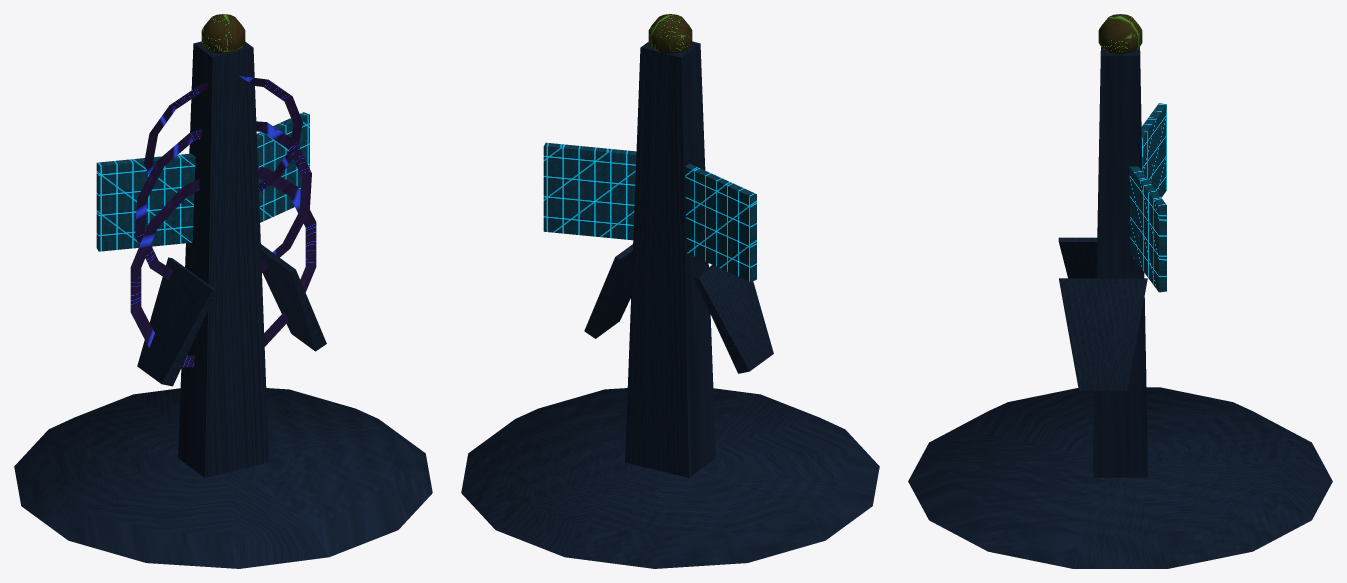
Rendered from command-horizon-wayfinding-lod1-textured.glb.
The picture shows the model from 3 angles, left to right: view 1: azimuth 30°, elevation 25°; view 2: azimuth 150°, elevation 25°; view 3: azimuth 270°, elevation 25°; orthographic projection.
Visible parts, largest first — view 1: wayfinding-base, wayfinding-spine, wayfinding-panel--1, wayfinding-wing--1, wayfinding-ring-0, wayfinding-ring-1, wayfinding-wing-1, wayfinding-panel-1, wayfinding-ring-2, wayfinding-beacon; view 2: wayfinding-base, wayfinding-spine, wayfinding-panel-1, wayfinding-panel--1, wayfinding-wing--1, wayfinding-wing-1, wayfinding-beacon; view 3: wayfinding-base, wayfinding-spine, wayfinding-wing-1, wayfinding-panel-1, wayfinding-panel--1, wayfinding-beacon, wayfinding-wing--1.
Part boxes in pixels (left/top/right/bottom): wayfinding-base: left=14, top=388, right=432, bottom=568; wayfinding-spine: left=178, top=41, right=268, bottom=477; wayfinding-panel--1: left=96, top=153, right=195, bottom=251; wayfinding-wing--1: left=137, top=257, right=216, bottom=386; wayfinding-ring-0: left=130, top=167, right=316, bottom=367; wayfinding-ring-1: left=135, top=121, right=311, bottom=279; wayfinding-wing-1: left=261, top=244, right=326, bottom=351; wayfinding-panel-1: left=256, top=112, right=309, bottom=222; wayfinding-ring-2: left=144, top=76, right=302, bottom=192; wayfinding-beacon: left=201, top=14, right=245, bottom=53; wayfinding-base: left=461, top=388, right=879, bottom=568; wayfinding-spine: left=625, top=41, right=715, bottom=477; wayfinding-panel-1: left=543, top=142, right=636, bottom=240; wayfinding-panel--1: left=685, top=163, right=756, bottom=281; wayfinding-wing--1: left=694, top=265, right=773, bottom=373; wayfinding-wing-1: left=584, top=244, right=632, bottom=338; wayfinding-beacon: left=648, top=14, right=692, bottom=53; wayfinding-base: left=908, top=387, right=1332, bottom=568; wayfinding-spine: left=1093, top=47, right=1147, bottom=477; wayfinding-wing-1: left=1059, top=278, right=1147, bottom=390; wayfinding-panel-1: left=1129, top=166, right=1166, bottom=292; wayfinding-panel--1: left=1141, top=103, right=1166, bottom=197; wayfinding-beacon: left=1098, top=14, right=1142, bottom=53; wayfinding-wing--1: left=1058, top=237, right=1097, bottom=278.
Bounding box in the file's own units: 2.89 × 3.58 × 2.96.
Materials: 4 (4 with a texture image).
